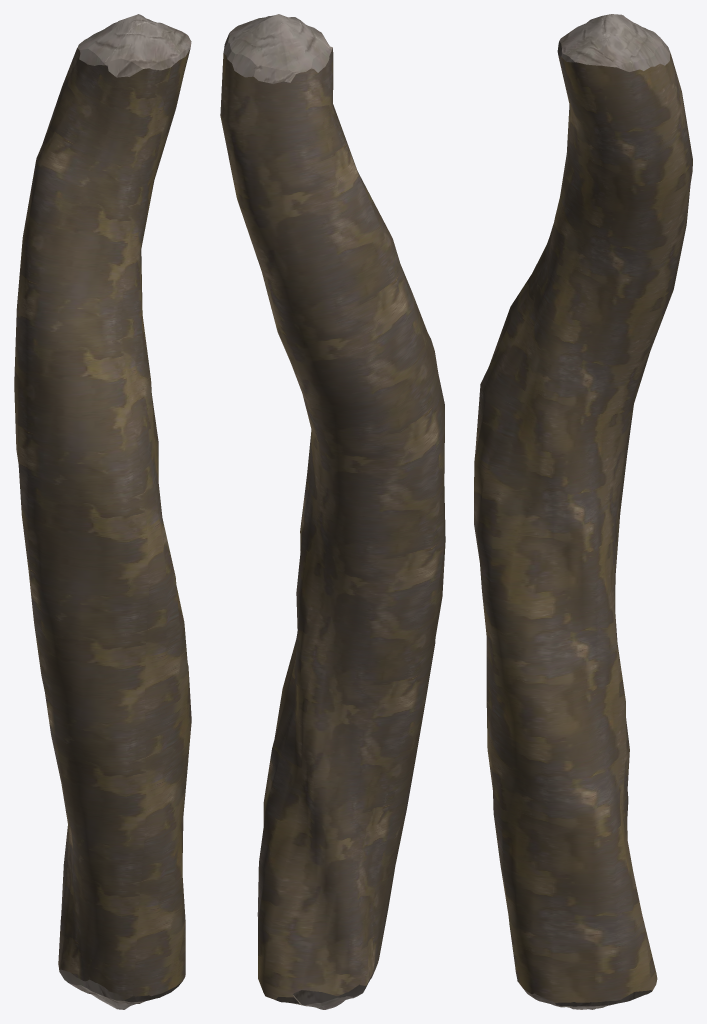
3 renders of one model, left to right at view 1: azimuth 30°, elevation 25°; view 2: azimuth 150°, elevation 25°; view 3: azimuth 270°, elevation 25°, orthographic. The views are drawn at different scales.
Parts seen in each view (by area): view 1: SM_Yew_03_tree_quarters_top_LOD0; view 2: SM_Yew_03_tree_quarters_top_LOD0; view 3: SM_Yew_03_tree_quarters_top_LOD0.
Boxes of the visible parts, box(x1,y1,x2,y2) form: SM_Yew_03_tree_quarters_top_LOD0: box(14, 14, 191, 1009); SM_Yew_03_tree_quarters_top_LOD0: box(220, 14, 445, 1009); SM_Yew_03_tree_quarters_top_LOD0: box(474, 14, 692, 1009).
Size of the model in its own units: 1.02 by 5.36 by 1.05.
Materials: 1 (1 with a texture image).
